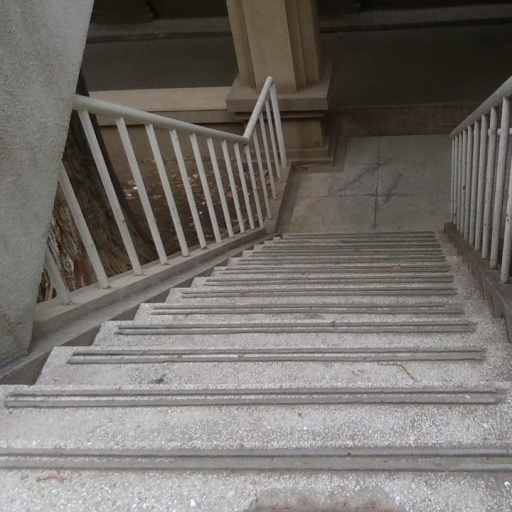Stairs: (0, 232, 512, 512)
